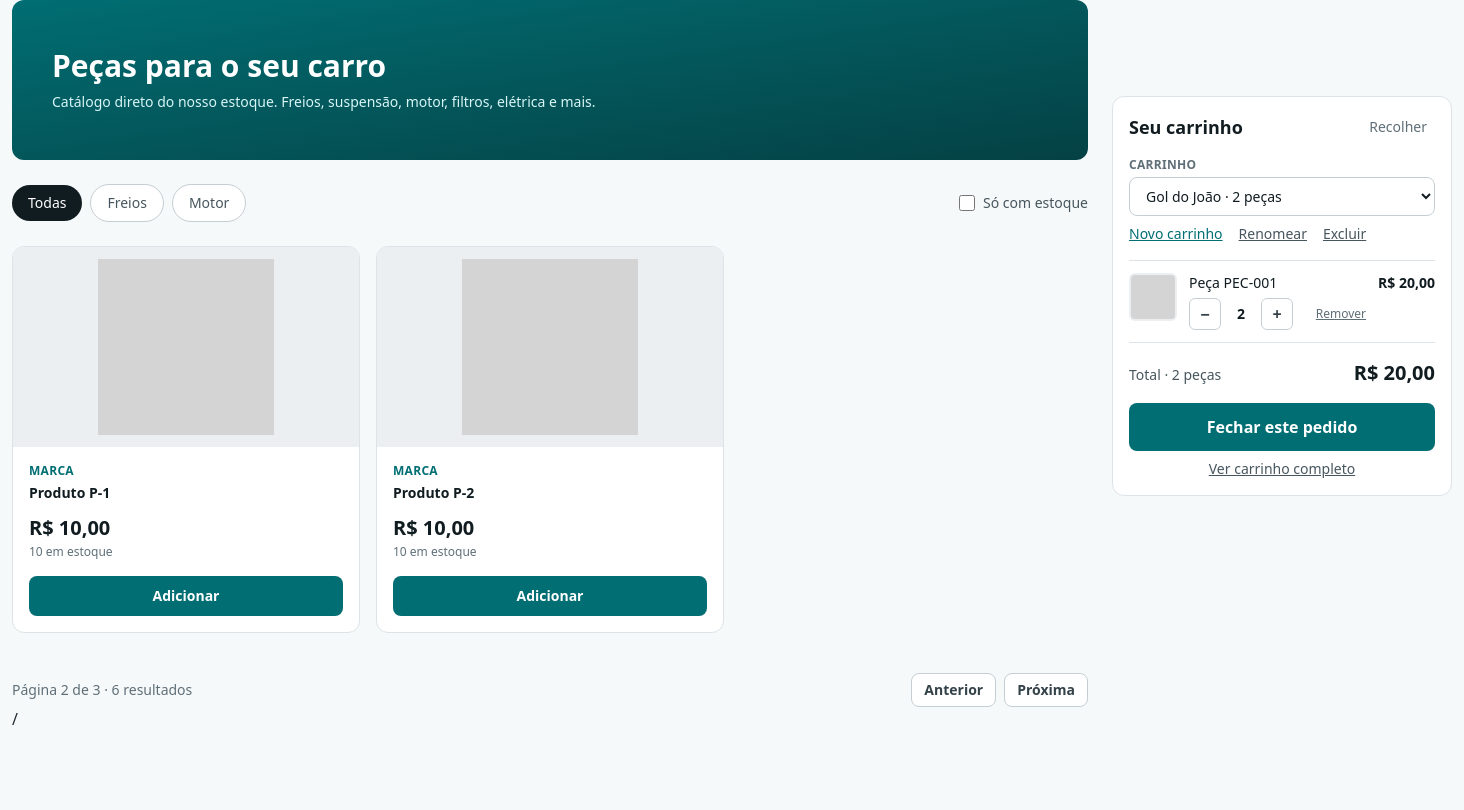
Test: vitrine com o carrinho ao lado › recolher o painel lembra a escolha; "Mostrar carrinho" traz de volta
Click the button "Recolher" at (1398, 127), box [1361, 113, 1435, 141]
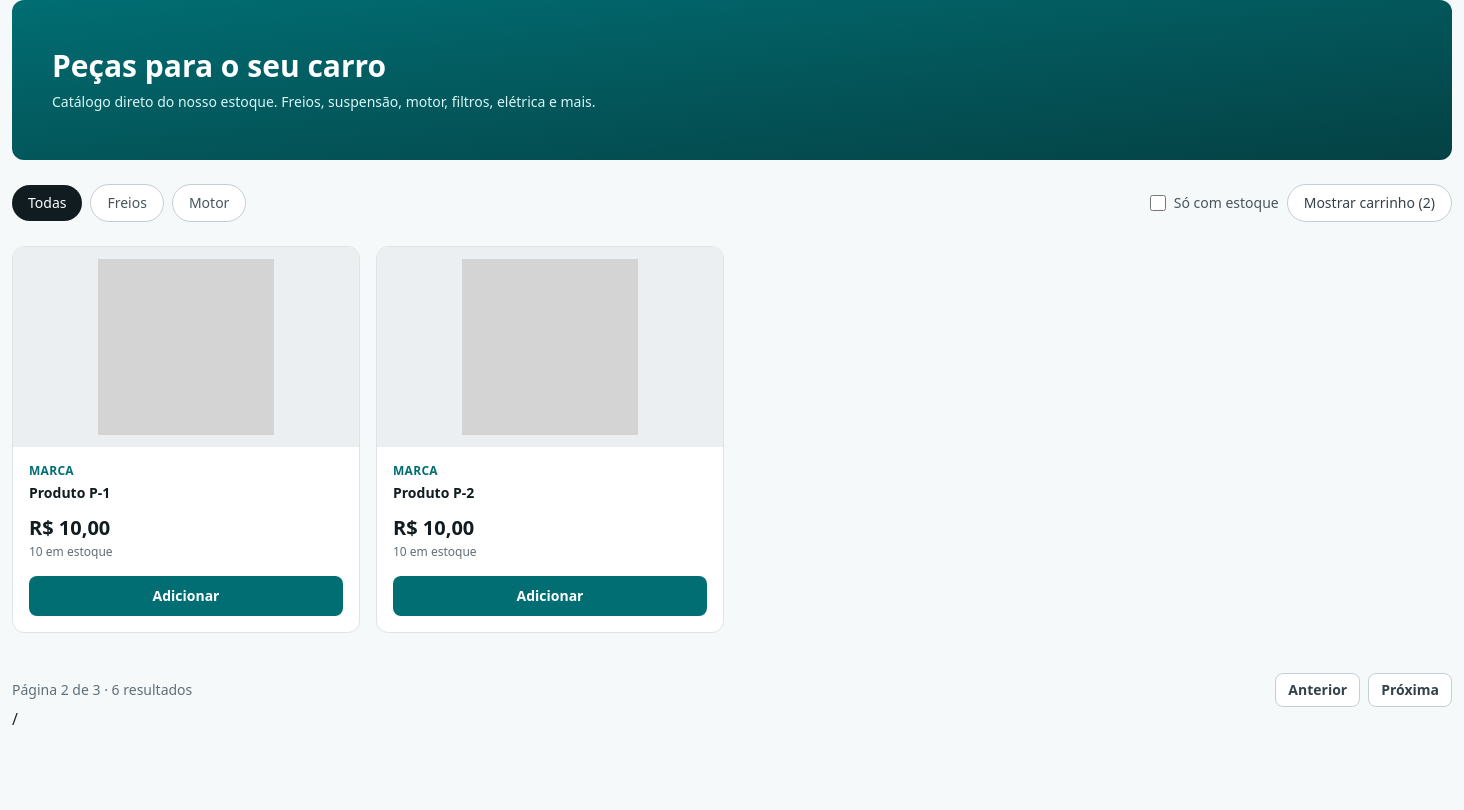
Expected: the heading "Seu carrinho" is gone
Click the button "Mostrar carrinho (2)" at (1369, 203), box [1287, 184, 1452, 222]
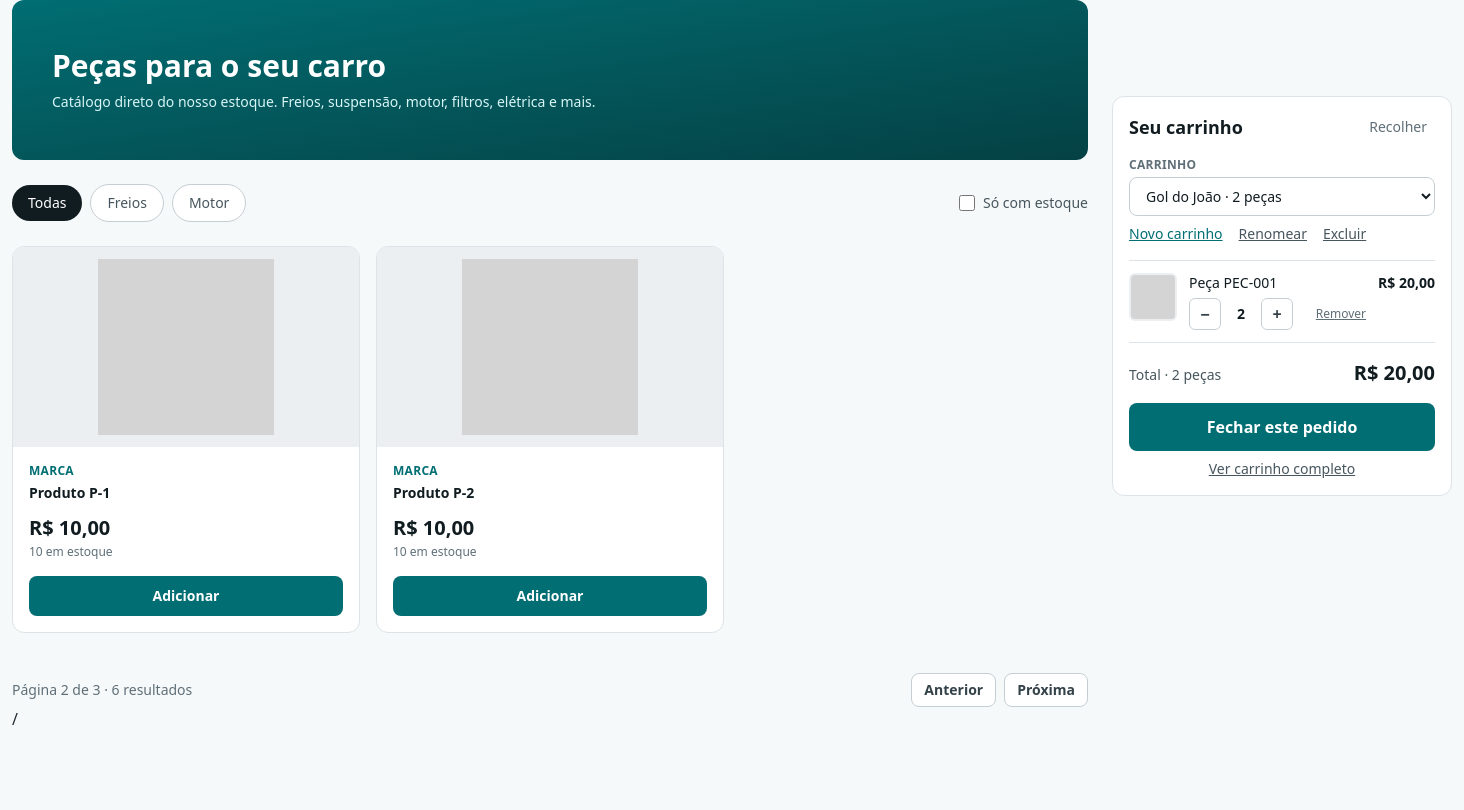
Expected: the element "Seu carrinho" is shown, [1129, 113, 1435, 479]
